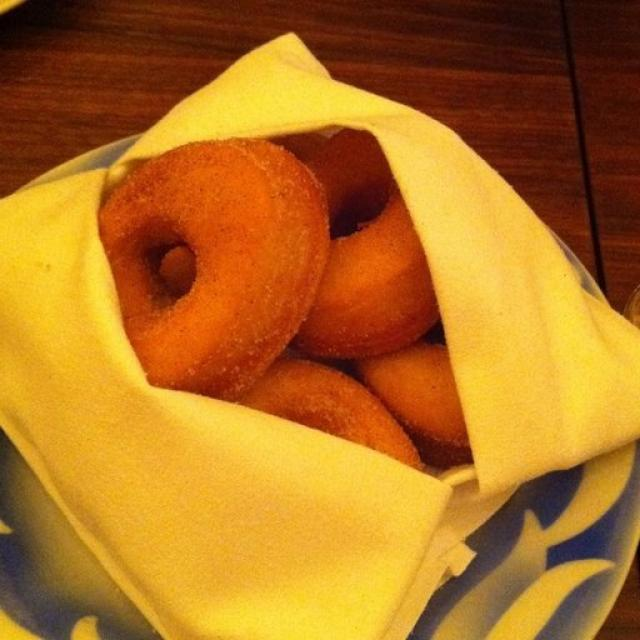Donuts: (75, 128, 494, 508)
